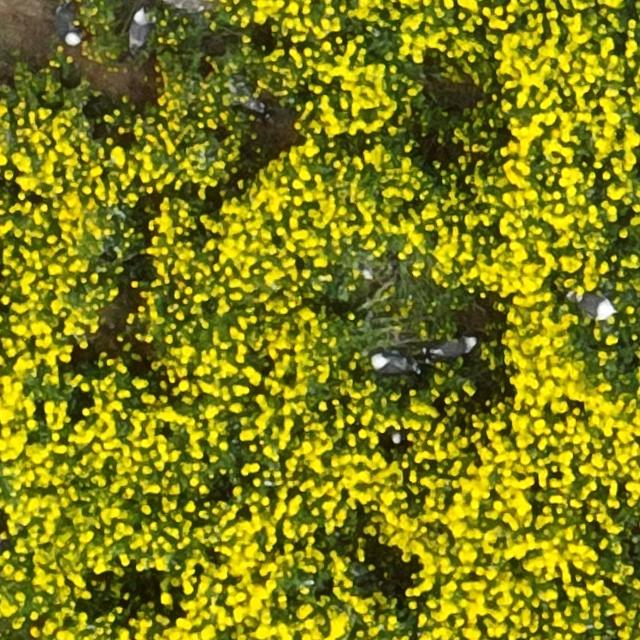umineko: (572, 294, 614, 318), (234, 90, 270, 118), (431, 336, 475, 356), (371, 355, 409, 374), (129, 10, 148, 46), (60, 9, 80, 42)
